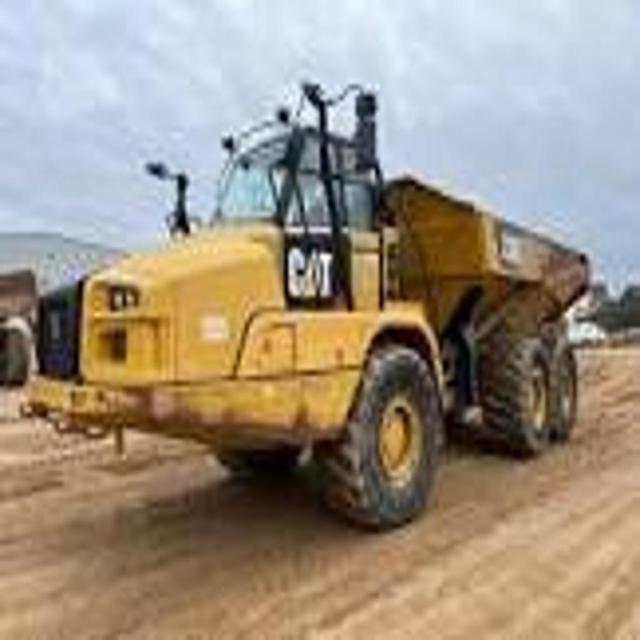dump_truck: (16, 71, 592, 544)
